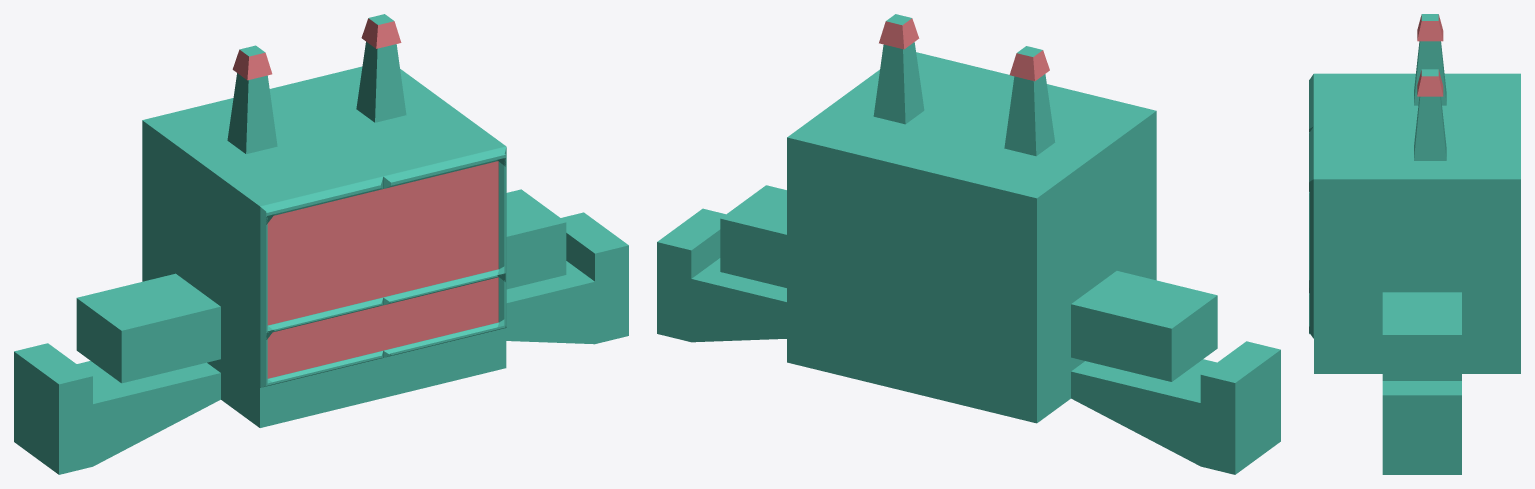
File: Trinket1.fbx
3 views of the same model, side by side, from view 1: azimuth 30°, elevation 25°; view 2: azimuth 150°, elevation 25°; view 3: azimuth 270°, elevation 25° (orthographic). The views are drawn at different scales.
Visible parts, largest first — view 1: Cube.016; view 2: Cube.016; view 3: Cube.016.
Boxes of the visible parts, <box> form: Cube.016: <box>14,14,628,474</box>; Cube.016: <box>657,14,1280,474</box>; Cube.016: <box>1309,14,1520,474</box>.
Size of the model in its own units: 0.8505 by 0.4997 by 0.3118.
